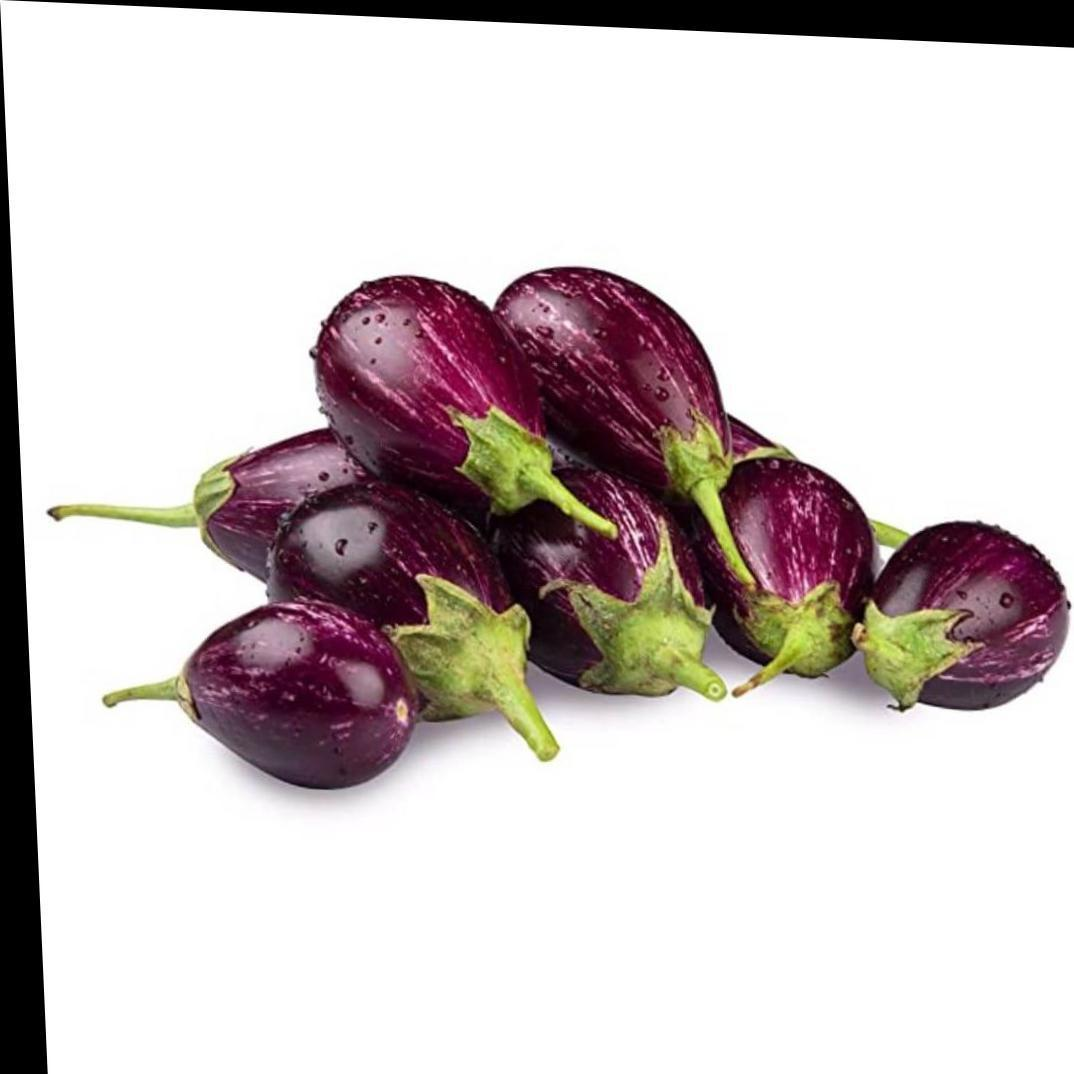eggplant: (92, 224, 1073, 854), (247, 248, 578, 556), (91, 578, 424, 846)
